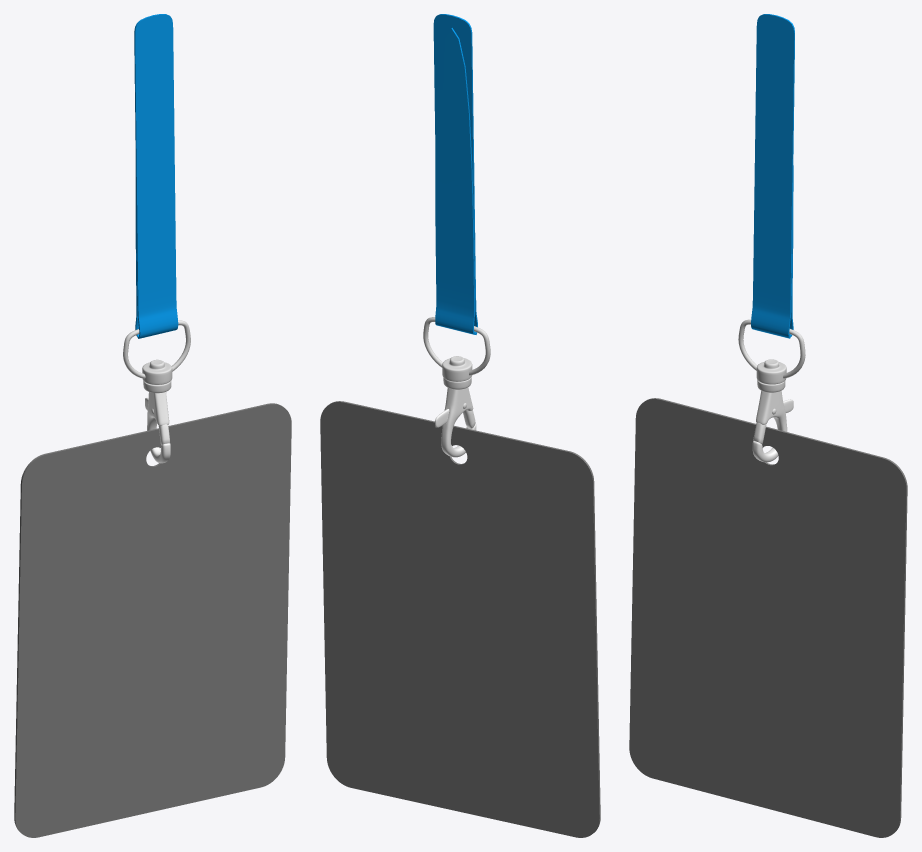
The model's file is 3Dcard.glb.
The picture shows the model from 3 angles, left to right: view 1: azimuth 30°, elevation 25°; view 2: azimuth 150°, elevation 25°; view 3: azimuth 330°, elevation 25°; orthographic projection.
Visible parts, largest first — view 1: Plane.002, Plane, Cube, BezierCircle, Circle; view 2: Plane.002, Plane, Cube, BezierCircle, Circle; view 3: Plane.002, Plane, Cube, BezierCircle, Circle.
Part boxes in pixels (x1,y1,x2,y2): Plane.002: (14, 403, 291, 837); Plane: (134, 14, 178, 338); Cube: (145, 392, 170, 463); BezierCircle: (123, 320, 190, 378); Circle: (142, 359, 172, 384); Plane.002: (320, 401, 600, 837); Plane: (433, 14, 477, 334); Cube: (435, 387, 476, 457); BezierCircle: (423, 317, 490, 375); Circle: (442, 356, 472, 381); Plane.002: (629, 398, 907, 837); Plane: (751, 14, 794, 338); Cube: (752, 390, 793, 462); BezierCircle: (738, 319, 805, 378); Circle: (756, 359, 786, 384).
Bounding box in the file's own units: 1.72 × 4.72 × 0.3273.
